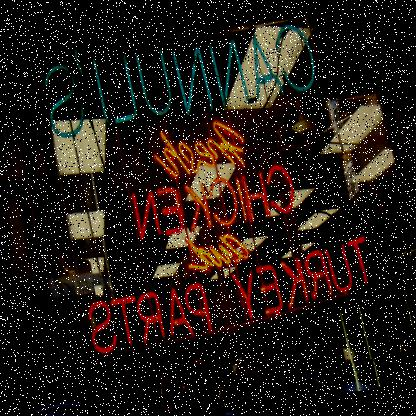Car: (220, 358, 381, 415), (35, 385, 143, 415)
